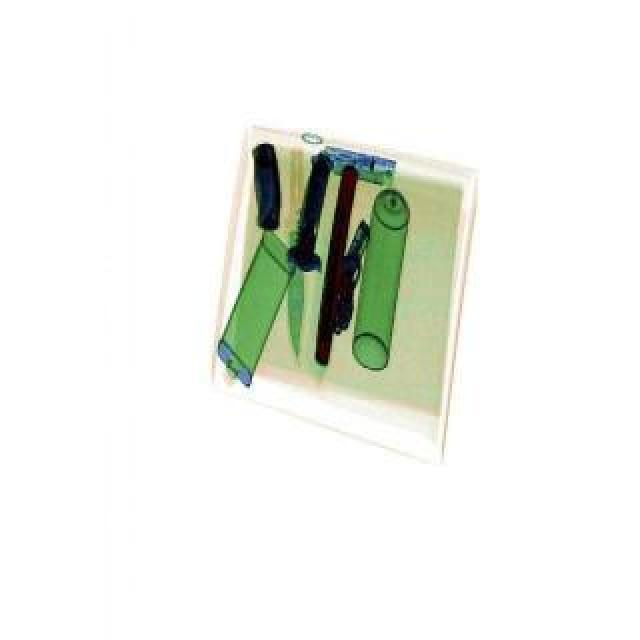gun: (322, 216, 378, 334)
knife: (282, 150, 338, 272), (252, 140, 282, 230), (284, 228, 304, 354)
